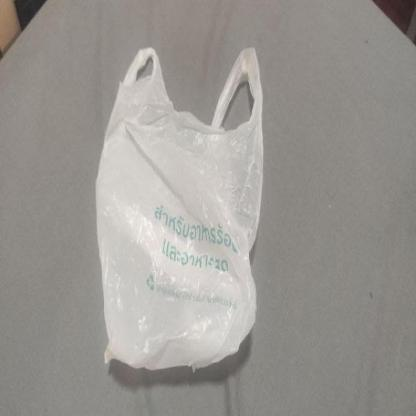Plastic Bag: (96, 46, 266, 372)
